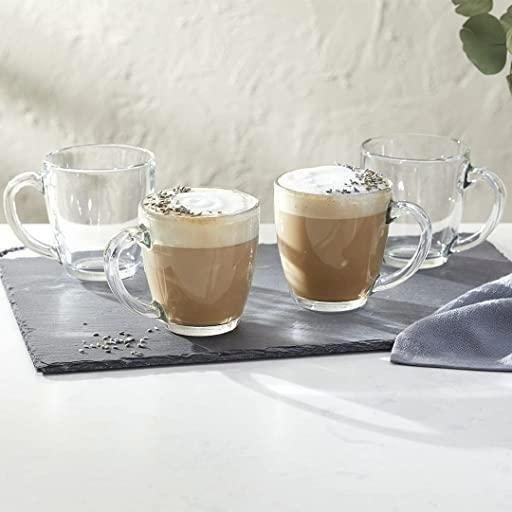glass-mug: (99, 185, 266, 342), (272, 164, 435, 317), (357, 129, 511, 277), (4, 142, 161, 286)
